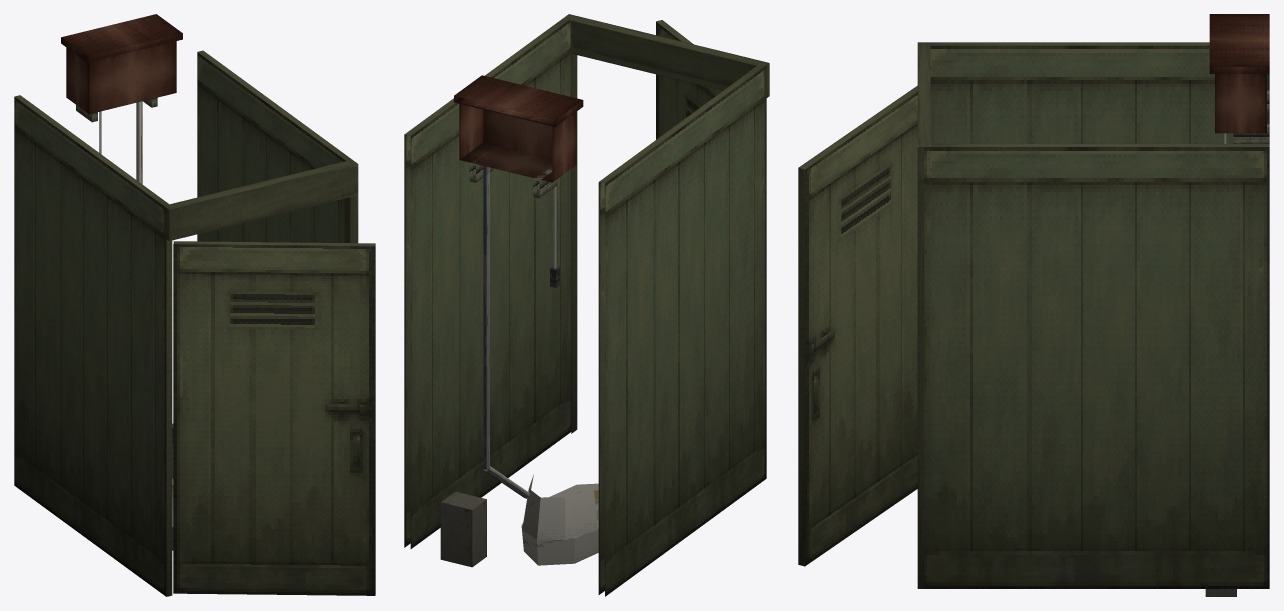
File: prop_toilet_stall-1-end.glb
3 renders of one model, left to right at view 1: azimuth 30°, elevation 25°; view 2: azimuth 150°, elevation 25°; view 3: azimuth 270°, elevation 25°, orthographic. The views are drawn at different scales.
Visible parts, largest first — view 1: prop_toilet_stall-1-end; view 2: prop_toilet_stall-1-end; view 3: prop_toilet_stall-1-end.
Boxes of the visible parts, x1,y1,x2,y2 form: prop_toilet_stall-1-end: [14, 14, 375, 596]; prop_toilet_stall-1-end: [404, 14, 769, 596]; prop_toilet_stall-1-end: [798, 14, 1269, 596].
Size of the model in its own units: 0.95 by 2.18 by 1.81.
Materials: 13 (13 with a texture image).
